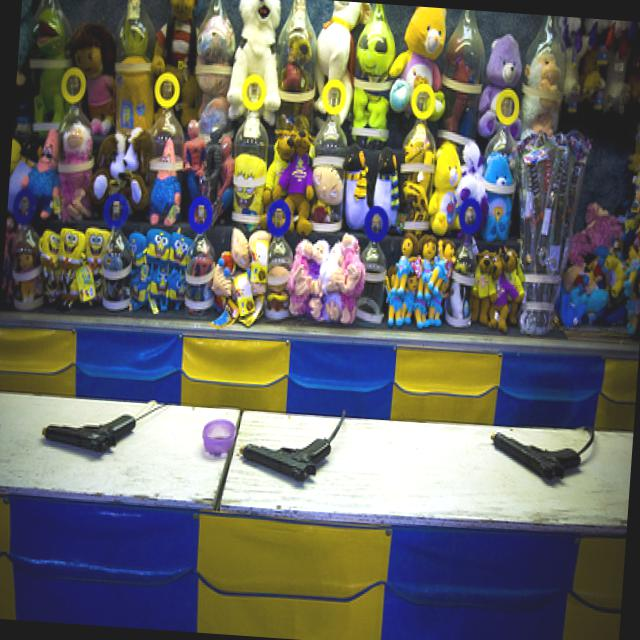handgun: (230, 418, 332, 488), (486, 428, 584, 490), (39, 402, 136, 458)
